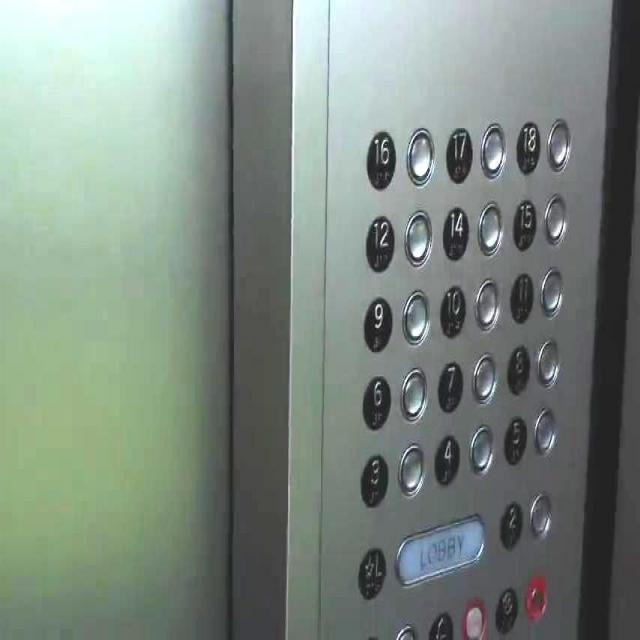10: (438, 283, 468, 340)
11: (508, 271, 534, 324)
12: (363, 212, 395, 273)
14: (441, 206, 471, 262)
15: (511, 199, 537, 252)
16: (365, 128, 396, 191)
17: (444, 123, 474, 184)
18: (515, 119, 540, 173)
2: (497, 499, 524, 557)
3: (359, 451, 390, 509)
4: (432, 431, 462, 489)
5: (502, 410, 528, 470)
6: (361, 374, 391, 429)
7: (435, 356, 462, 416)
8: (505, 341, 532, 396)
9: (362, 293, 393, 351)
empty: (396, 436, 427, 500), (400, 285, 430, 347), (402, 207, 432, 268), (405, 125, 434, 188), (480, 117, 507, 184), (399, 364, 429, 421), (476, 199, 504, 257), (538, 262, 565, 322), (543, 188, 568, 251), (473, 273, 500, 331), (535, 332, 561, 392), (546, 115, 571, 173), (468, 419, 493, 476), (471, 348, 495, 405), (459, 598, 488, 638), (524, 574, 548, 622), (534, 405, 557, 455), (530, 489, 551, 543)
sL: (357, 543, 387, 601)
stop: (494, 584, 520, 633)
